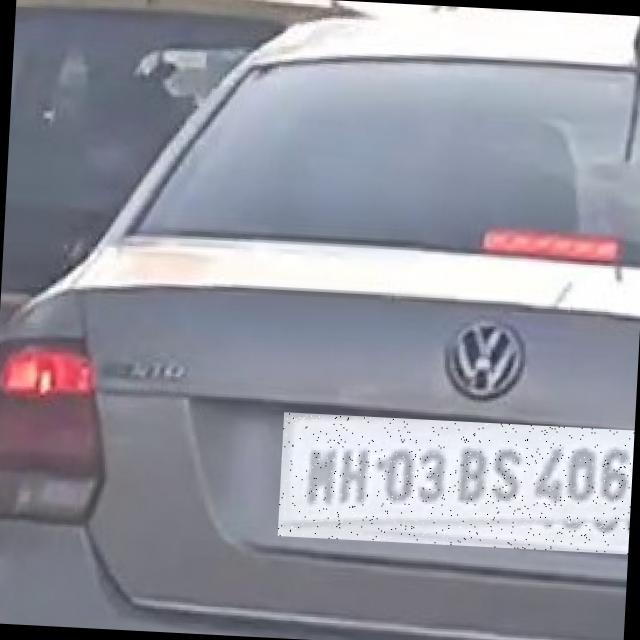Plate: (279, 414, 636, 556)
